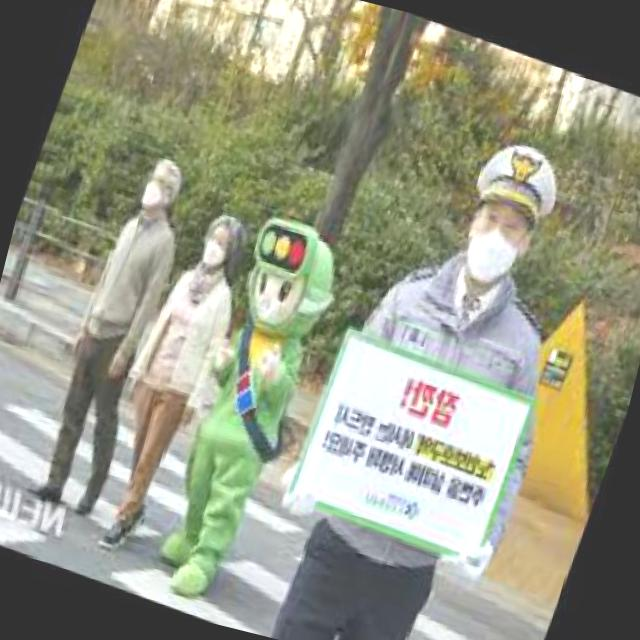Person: (250, 124, 626, 640), (23, 146, 218, 528), (73, 199, 264, 567)
